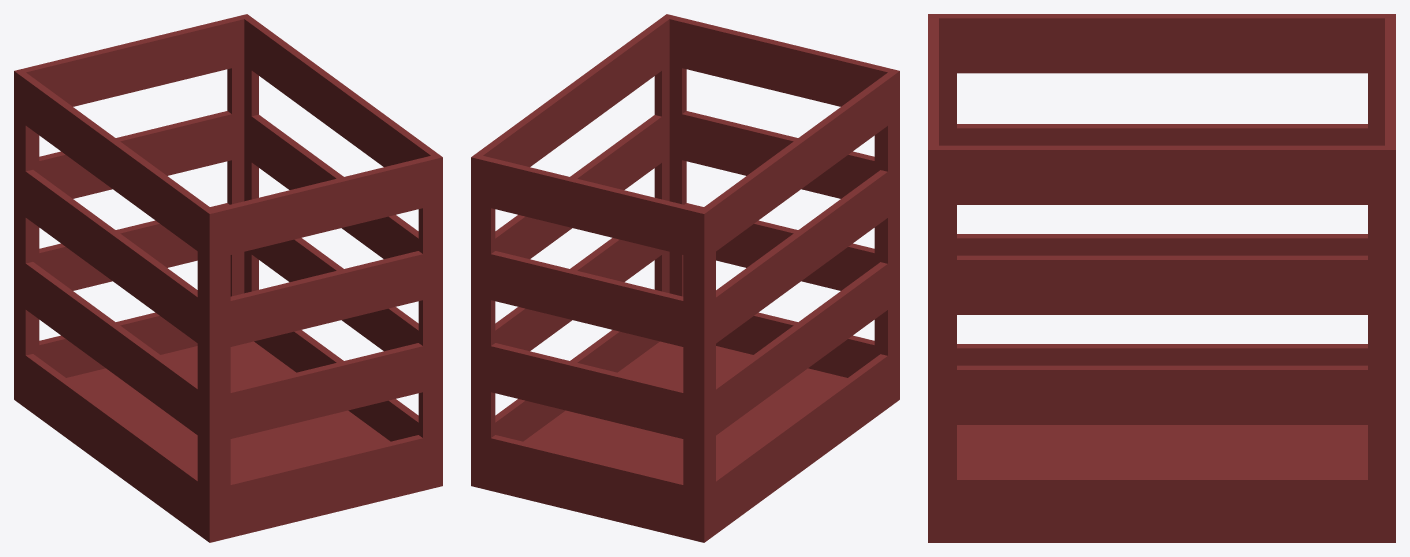
The model's file is bottle brate.fbx.
3 views of the same model, side by side, from view 1: azimuth 30°, elevation 25°; view 2: azimuth 150°, elevation 25°; view 3: azimuth 270°, elevation 25° (orthographic). The views are drawn at different scales.
Parts seen in each view (by area): view 1: Bottle Crate; view 2: Bottle Crate; view 3: Bottle Crate.
Part boxes in pixels (x1=…): Bottle Crate: x1=14, y1=14, x2=442, y2=542; Bottle Crate: x1=471, y1=14, x2=899, y2=542; Bottle Crate: x1=928, y1=14, x2=1395, y2=542.
Bounding box in the file's own units: 70.4 × 94.85 × 102.
